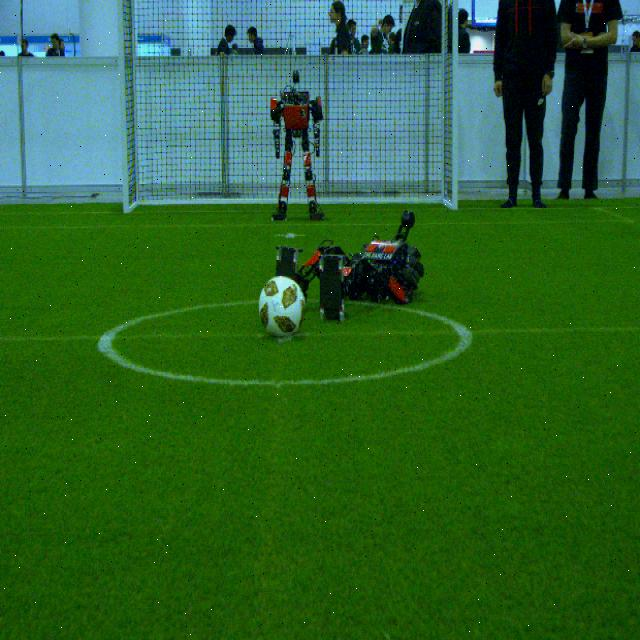ball: (256, 273, 308, 339)
goalpost: (118, 0, 129, 216), (452, 0, 458, 211)
